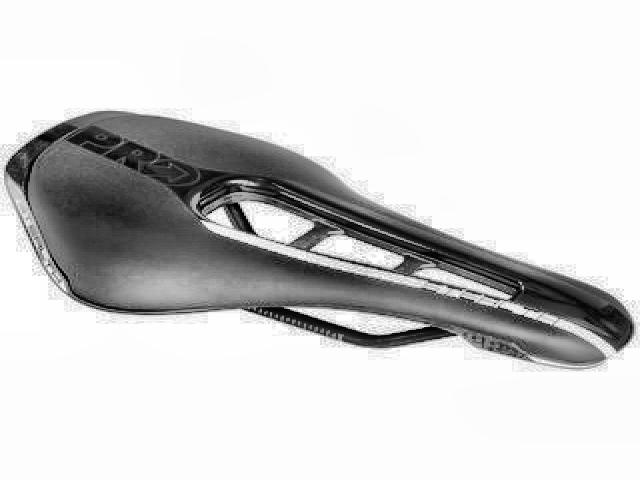saddle: (3, 104, 634, 371)
